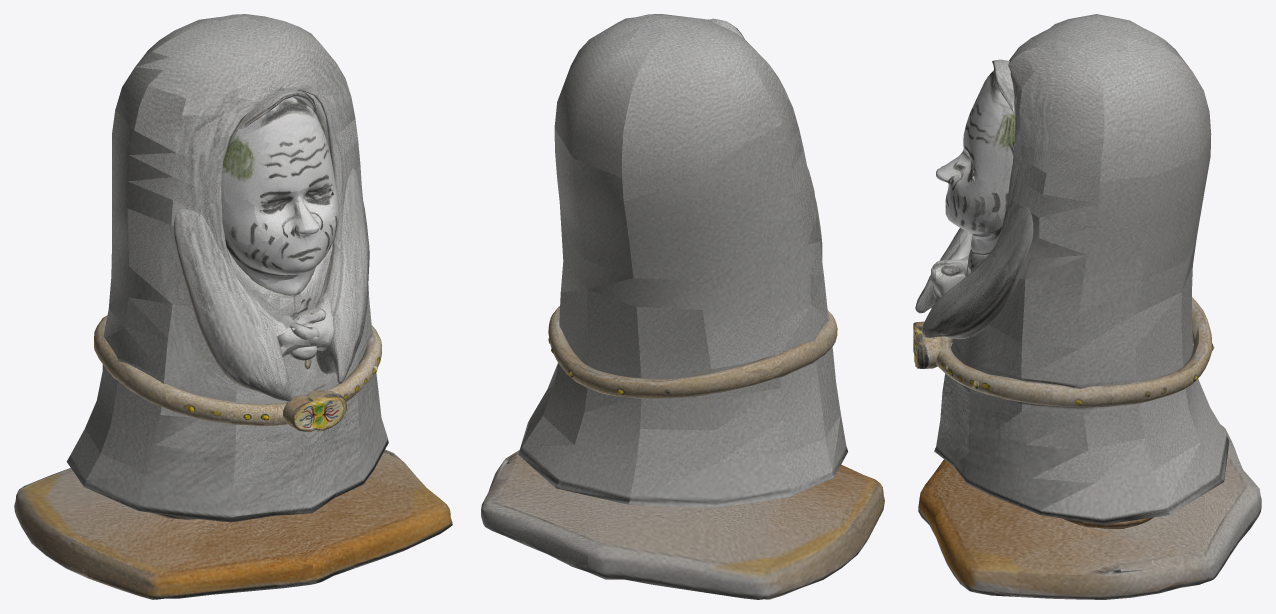
The model's file is hades_v5.glb.
The picture shows the model from 3 angles, left to right: view 1: azimuth 30°, elevation 25°; view 2: azimuth 150°, elevation 25°; view 3: azimuth 270°, elevation 25°; orthographic projection.
Visible parts, largest first — view 1: mesh_node; view 2: mesh_node; view 3: mesh_node.
Part boxes in pixels (x1,y1,x2,y2): mesh_node: (14,14,452,599); mesh_node: (481,14,884,599); mesh_node: (913,14,1261,599).
Bounding box in the file's own units: 0.7441 × 1 × 0.6523.
Materials: 1 (1 with a texture image).
